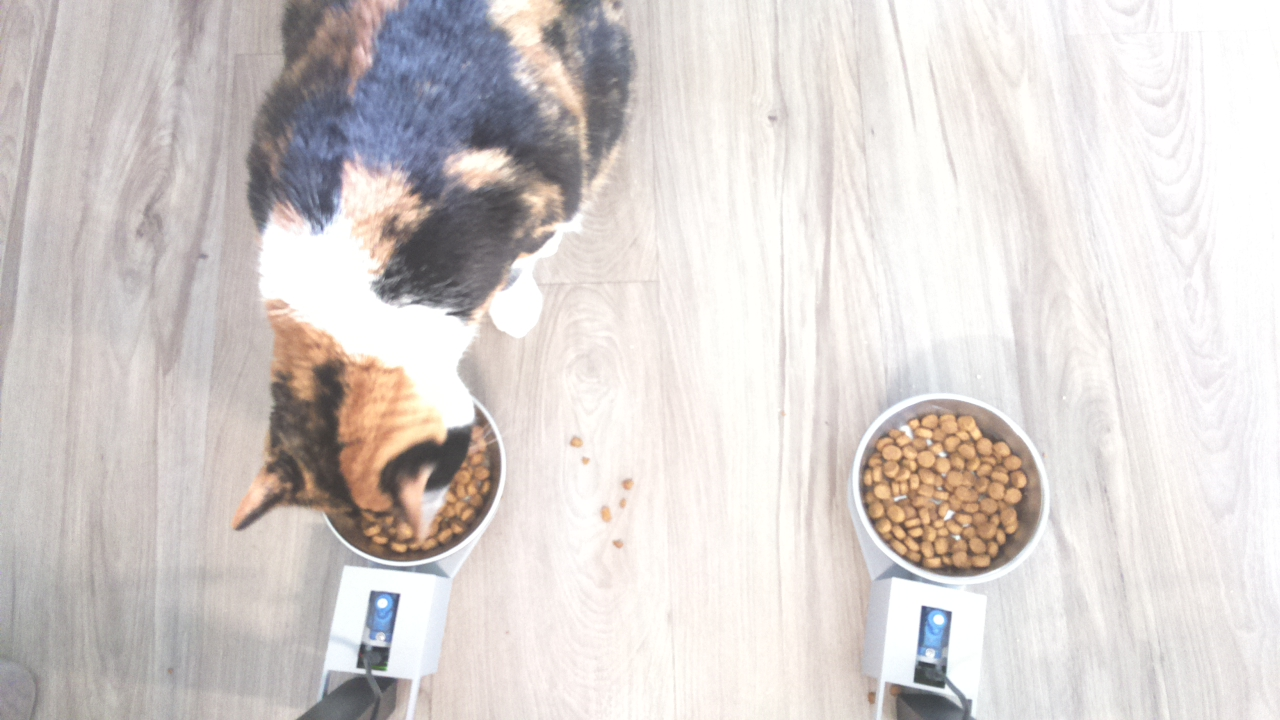bella_eating: (239, 262, 512, 572)
open_bowl: (851, 389, 1050, 585)
